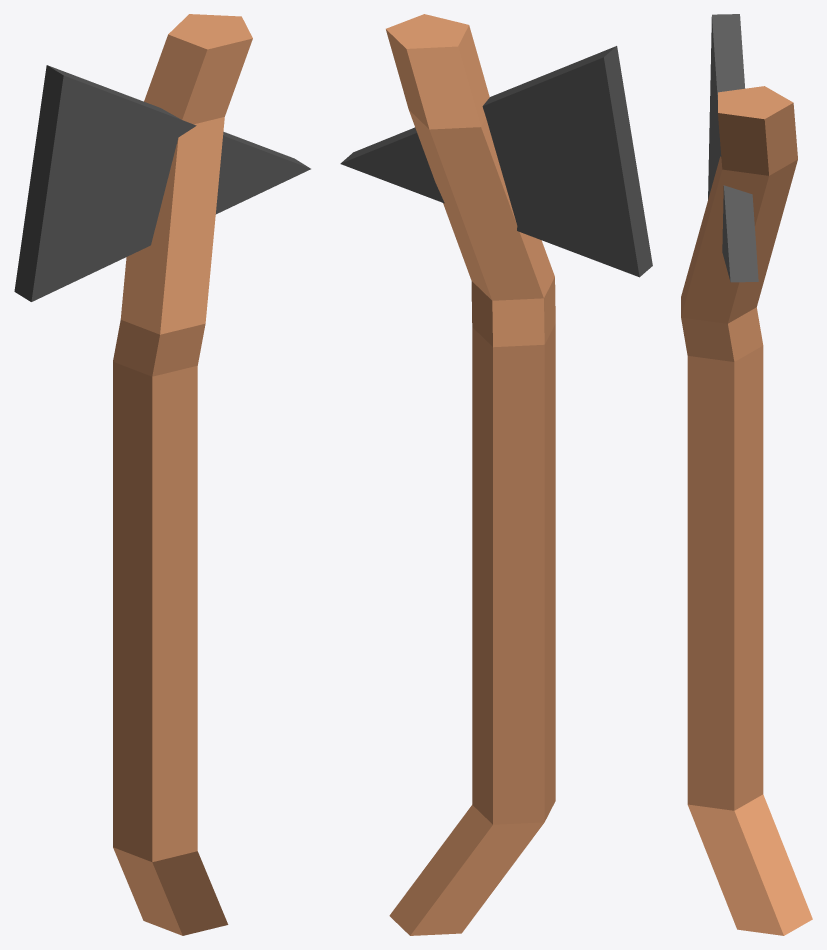
Rendered from axe.glb.
3 renders of one model, left to right at view 1: azimuth 30°, elevation 25°; view 2: azimuth 150°, elevation 25°; view 3: azimuth 270°, elevation 25°, orthographic. The views are drawn at different scales.
Parts seen in each view (by area): view 1: Cylinder, Cube; view 2: Cylinder, Cube; view 3: Cylinder, Cube.
Boxes of the visible parts, x1,y1,x2,y2 form: Cylinder: (113, 14, 252, 935); Cube: (14, 65, 310, 301); Cylinder: (386, 14, 555, 935); Cube: (340, 46, 652, 277); Cylinder: (681, 86, 812, 935); Cube: (708, 14, 758, 282).
Size of the model in its own units: 1.65 by 4.83 by 0.6923.
